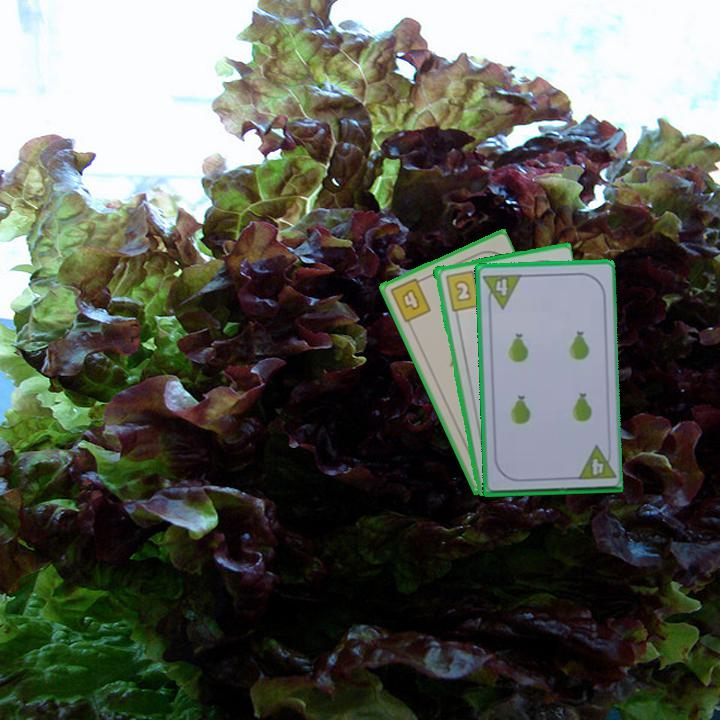2b: (441, 267, 483, 313)
4b: (386, 273, 434, 325)
4p: (480, 270, 524, 312), (573, 442, 617, 483)
